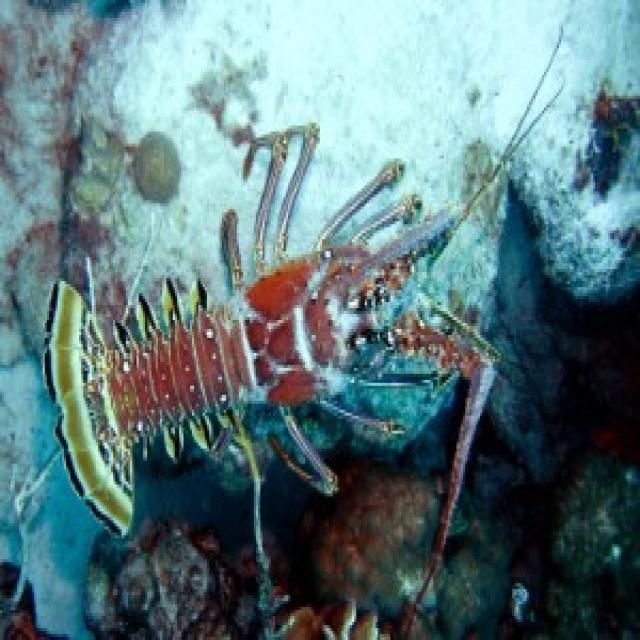lobsters: (0, 126, 592, 596)
